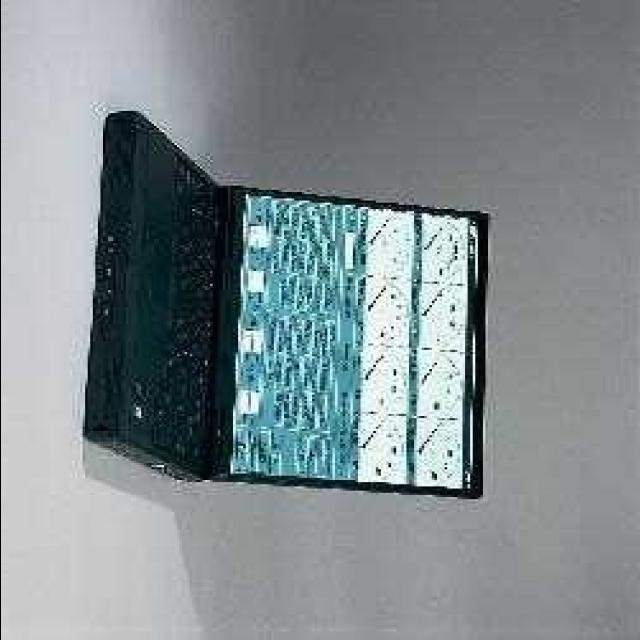laptop: (98, 174, 480, 471)
